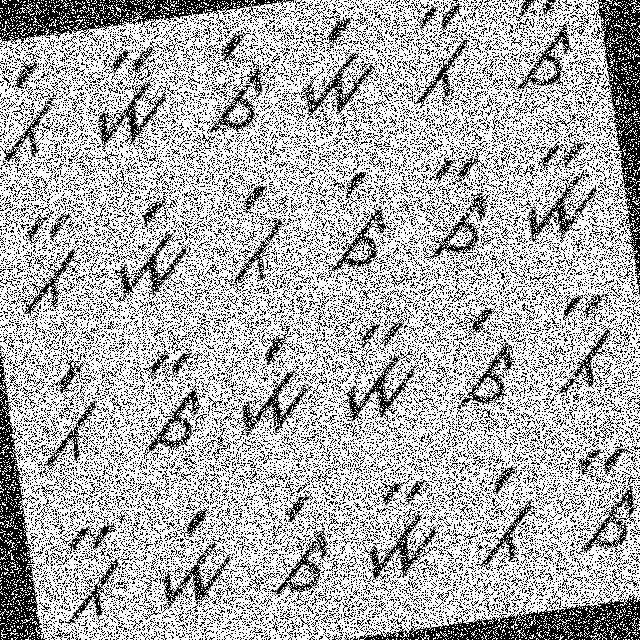ban: (46, 512, 139, 628), (391, 0, 484, 109), (1, 208, 85, 319), (546, 289, 628, 400)
bang: (21, 354, 109, 474), (460, 458, 548, 577), (216, 178, 295, 288), (0, 58, 70, 169)
can: (560, 439, 639, 560), (415, 152, 500, 262), (130, 345, 210, 460), (498, 0, 586, 98)
cang: (438, 302, 528, 422), (257, 483, 342, 600), (312, 166, 396, 277), (194, 27, 275, 140)
man: (328, 312, 428, 430), (510, 130, 609, 248), (78, 44, 178, 151), (352, 474, 449, 582)
mang: (284, 13, 388, 123), (145, 500, 243, 616), (99, 192, 196, 306), (226, 326, 318, 440)
